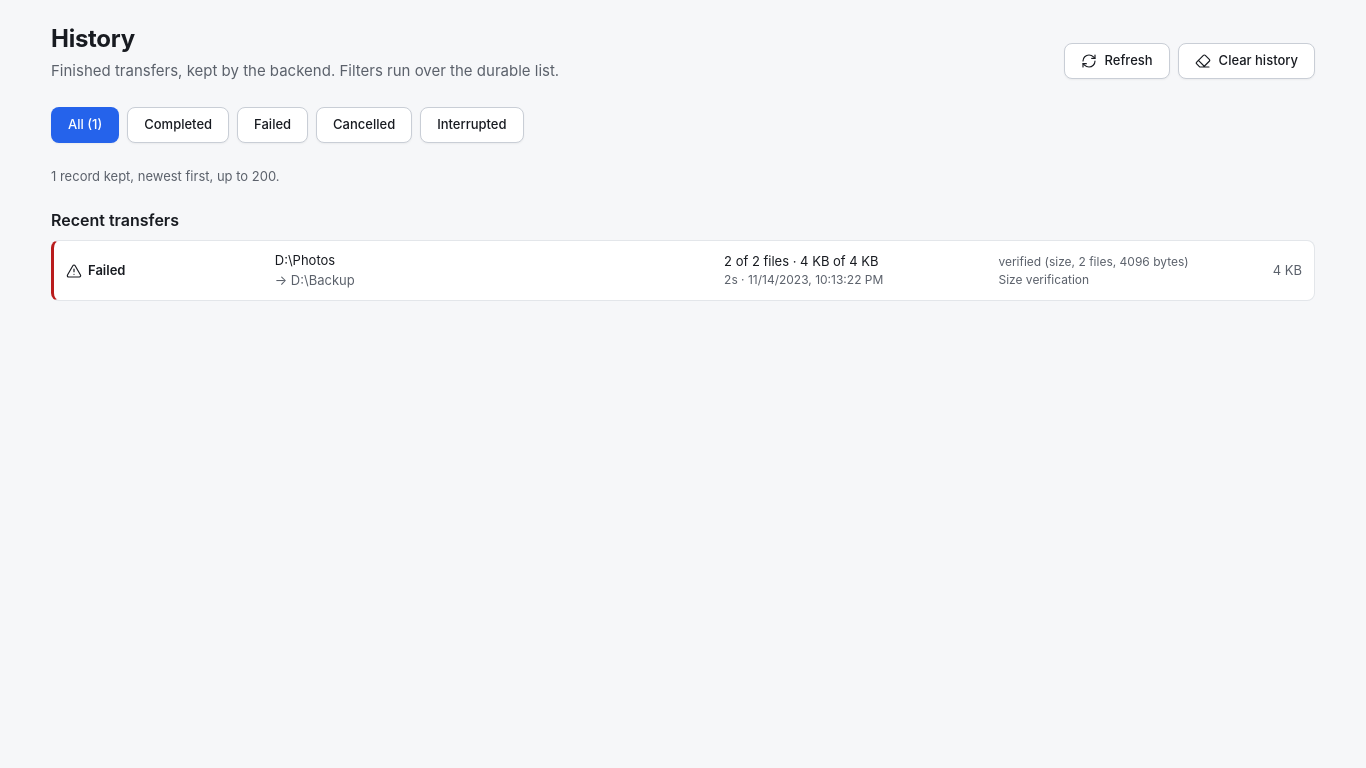
Test: HistoryPage › opens the details panel with the structured failure of a failed transfer
Click the button "Failed" at (107, 270), box [51,240,1315,301]
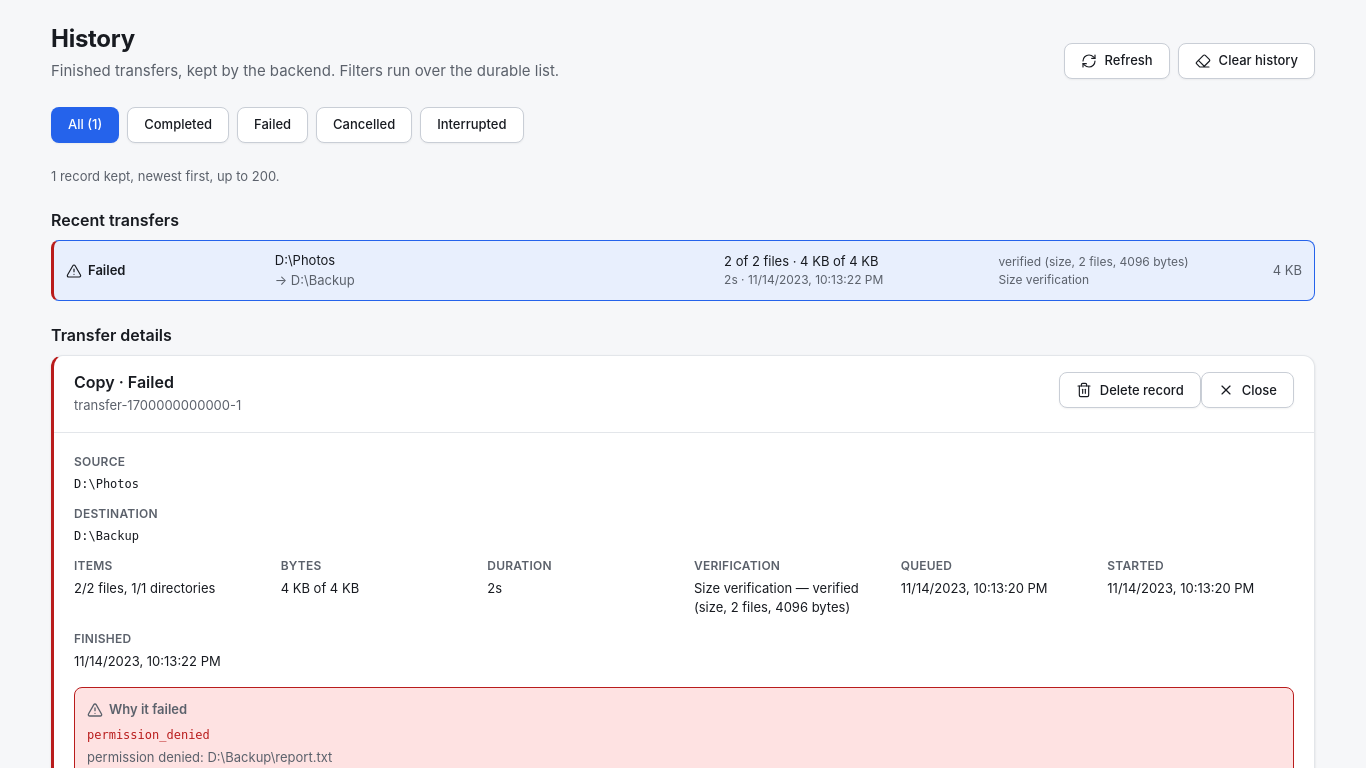
Result: the text "Why it failed" is shown at [87,701,187,718]
Result: the text "permission_denied" is shown at [87,728,210,742]
Result: the text "permission denied: D:\\Backup\\report.txt" is shown at [87,748,332,764]
